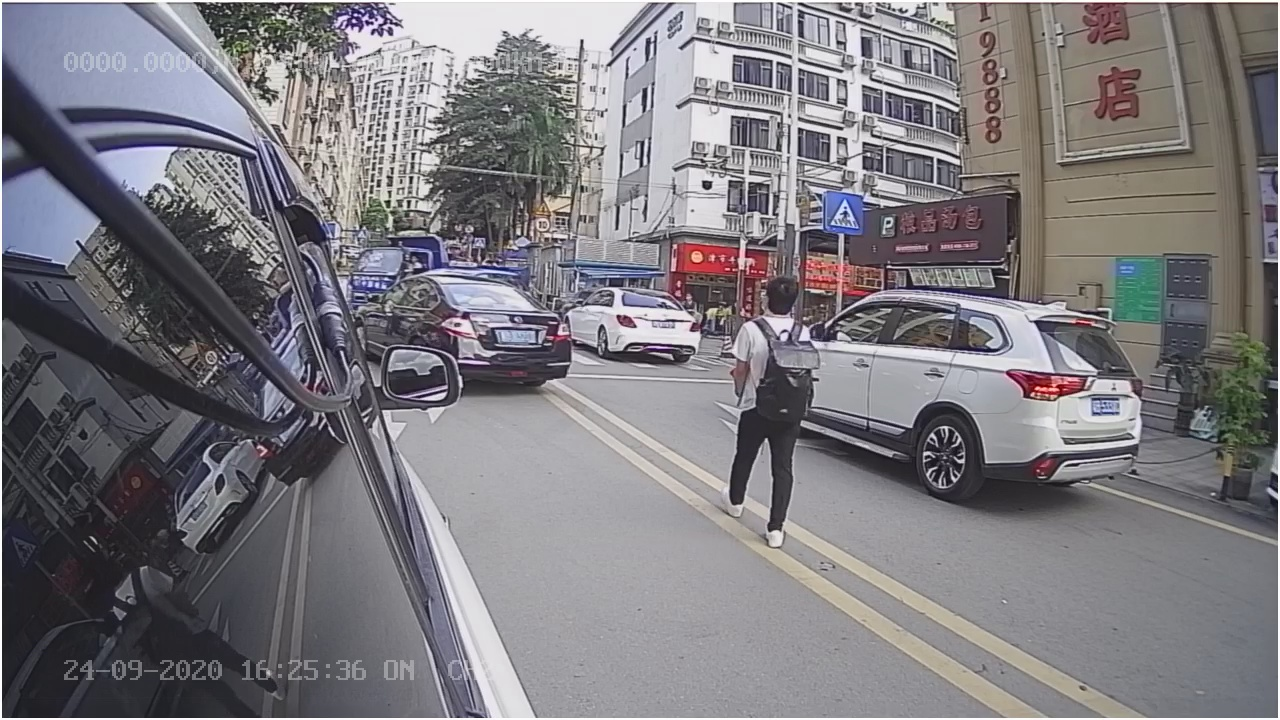person: (704, 270, 834, 559)
